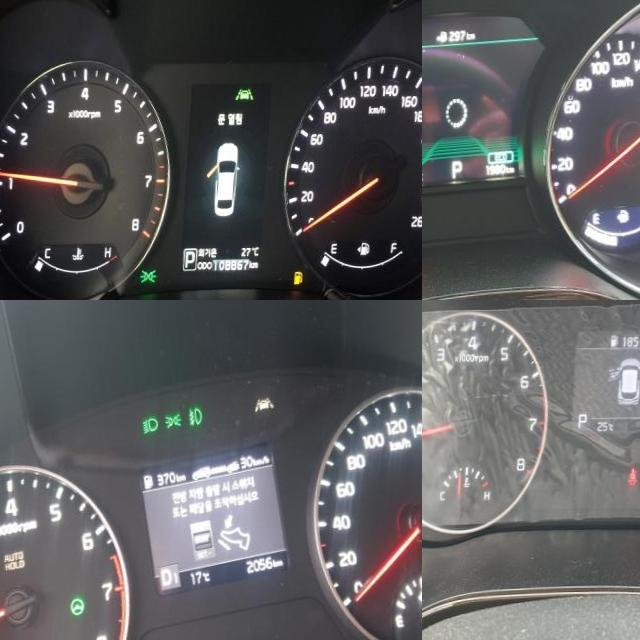FrontFogLight: (188, 404, 207, 426)
LaneCenteringOff: (254, 394, 277, 412)
Low beam: (143, 414, 162, 434)
Low fuel level: (298, 270, 309, 285)
SideLamp: (164, 411, 186, 428), (146, 268, 162, 284)
